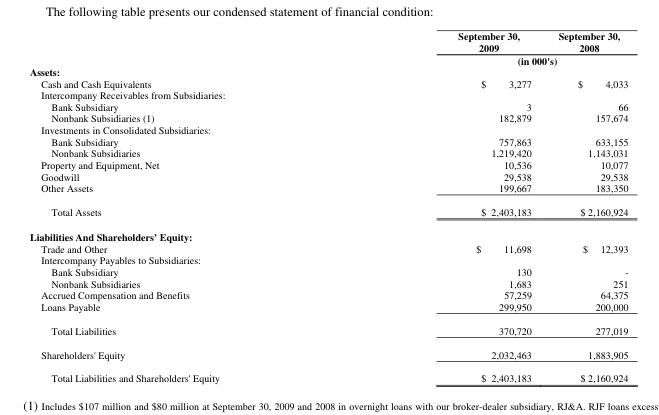table: (28, 28, 627, 384)
table column: (28, 28, 338, 384), (338, 28, 544, 384), (544, 28, 627, 384)
table column header: (28, 28, 627, 65)
table projected row header: (28, 223, 627, 242), (28, 65, 627, 77), (28, 88, 627, 100), (28, 123, 627, 135), (28, 253, 627, 265)
table row: (28, 28, 627, 53), (28, 199, 627, 223), (28, 317, 627, 341), (28, 341, 627, 365), (28, 223, 627, 242), (28, 365, 627, 384), (28, 181, 627, 199), (28, 300, 627, 317), (28, 53, 627, 65), (28, 65, 627, 77), (28, 88, 627, 100), (28, 111, 627, 123), (28, 123, 627, 135), (28, 146, 627, 158), (28, 169, 627, 181), (28, 253, 627, 265), (28, 276, 627, 288), (28, 288, 627, 300), (28, 77, 627, 88), (28, 100, 627, 111), (28, 135, 627, 146), (28, 158, 627, 169), (28, 242, 627, 253), (28, 265, 627, 276)
table spanning cell: (338, 53, 627, 65)
